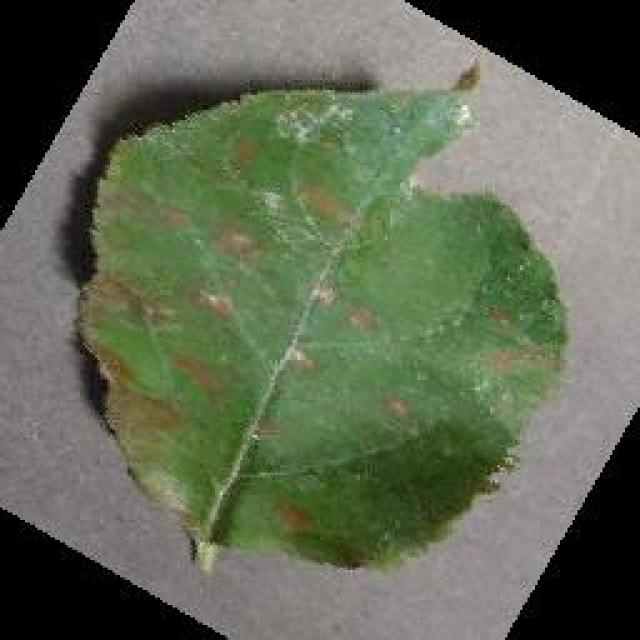apple rust disease: (70, 57, 570, 575)
